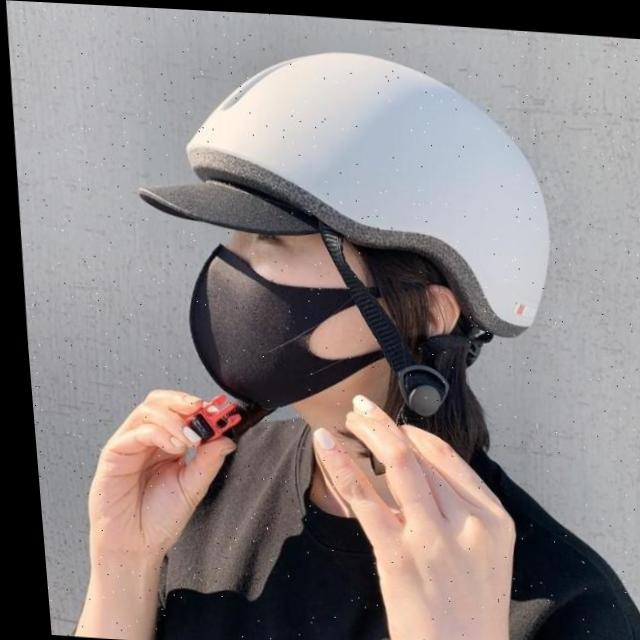helmet: (120, 23, 567, 466)
